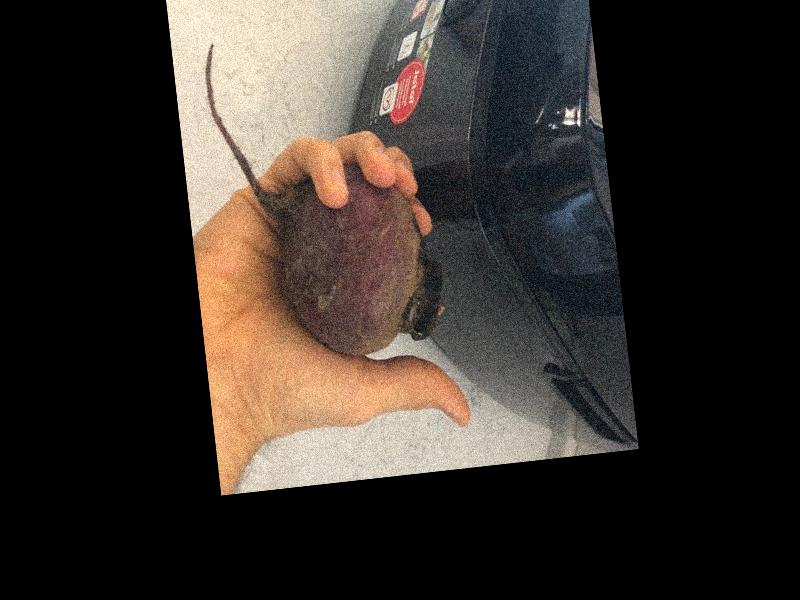Beet: (201, 20, 449, 368)
